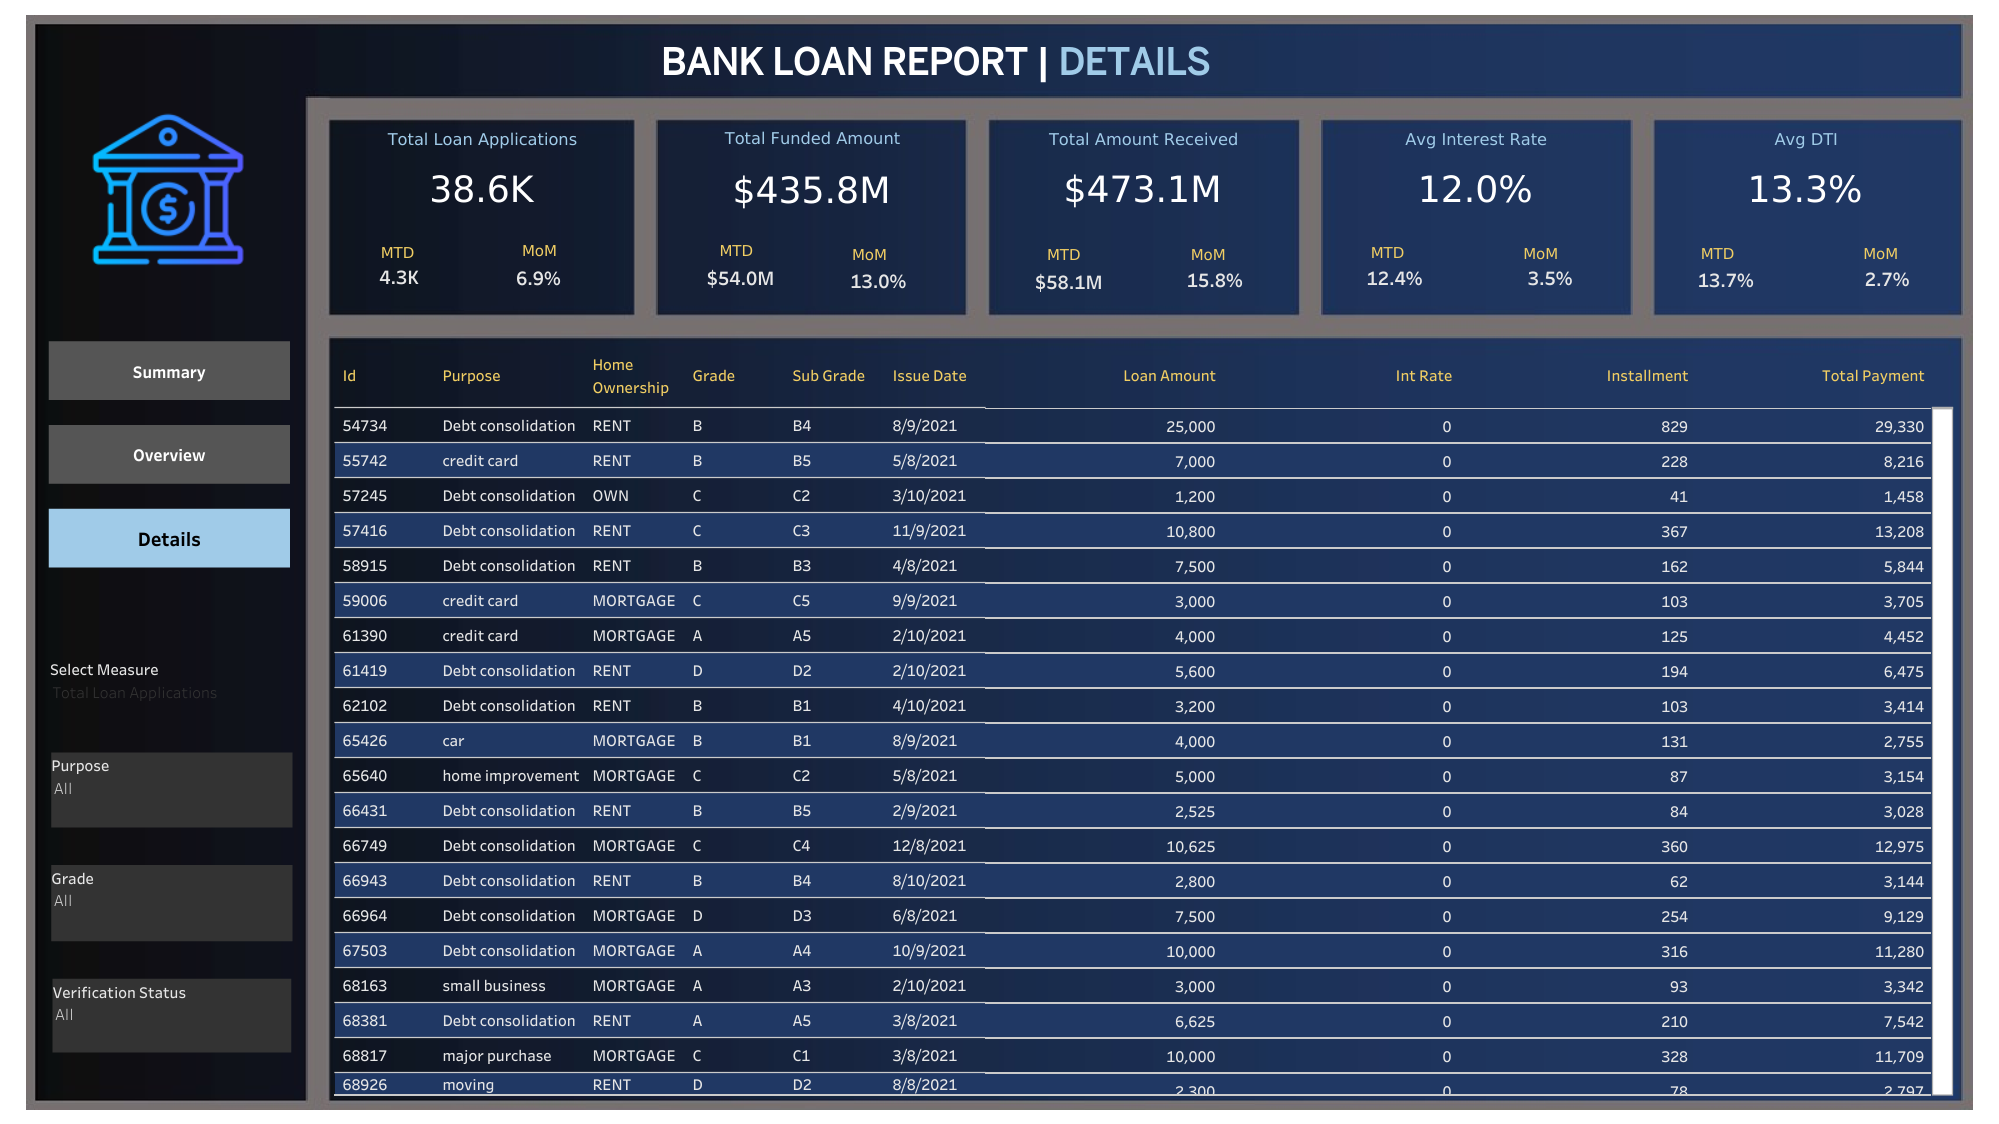

What the dashboard file says about the page in this screenshot:
{"tool":"tableau","page":{"name":"DETAILS","canvas":[1600,900],"ordinal":0},"visuals":[{"type":"image","param":"Image/Tableau Background 3.jpg","box":[8,8,1584,884]},{"type":"text","box":[526,24,660,51]},{"type":"image","param":"Image/bank_9331464.png","box":[66,79,137,145]},{"type":"worksheet","title":"Total Funded Amount","mark":"Automatic","box":[528,96,244,80]},{"type":"worksheet","title":"Total Loan Applications","mark":"Automatic","box":[266,97,240,78]},{"type":"worksheet","title":"Total Amount Received","mark":"Automatic","box":[793,97,244,79]},{"type":"worksheet","title":"Avg Interest Rate","mark":"Automatic","box":[1059,97,244,79]},{"type":"worksheet","title":"Avg DTI","mark":"Automatic","box":[1324,97,242,79]},{"type":"text","box":[415,189,40,22]},{"type":"text","box":[573,189,39,23]},{"type":"text","box":[302,190,40,22]},{"type":"text","box":[1094,190,39,23]},{"type":"text","box":[1216,191,40,22]},{"type":"text","box":[1358,191,39,23]},{"type":"text","box":[1488,191,40,22]},{"type":"text","box":[679,192,40,22]},{"type":"text","box":[835,192,39,23]},{"type":"text","box":[950,192,40,22]},{"type":"worksheet","title":"MTD Total Funded Amount","mark":"Automatic","box":[550,208,86,28]},{"type":"worksheet","title":"MTD Avg Interest Rate","mark":"Automatic","box":[1079,208,73,27]},{"type":"worksheet","title":"MoM Avg Interest Rate","mark":"Automatic","box":[1211,208,58,28]},{"type":"worksheet","title":"MoM Loan Applications","mark":"Automatic","box":[393,209,76,26]},{"type":"worksheet","title":"MTD Total Loan Applications","mark":"Automatic","box":[294,210,52,22]},{"type":"worksheet","title":"MTD Avg DTI","mark":"Automatic","box":[1347,210,67,26]},{"type":"worksheet","title":"MoM Avg DTI","mark":"Automatic","box":[1481,210,59,24]},{"type":"worksheet","title":"MoM Total Funded Amount","mark":"Automatic","box":[667,212,72,23]},{"type":"worksheet","title":"MTD Total Amount Received","mark":"Automatic","box":[816,212,79,25]},{"type":"worksheet","title":"MoM Total Amount Received","mark":"Automatic","box":[938,213,68,22]},{"type":"dashboard-object","box":[39,273,193,47]},{"type":"worksheet","title":"Details Tab","mark":"Automatic","rows":["id","purpose","home_ownership","grade","sub_grade","issue_date"],"box":[268,274,1295,603]},{"type":"dashboard-object","box":[39,340,193,47]},{"type":"dashboard-object","box":[39,407,193,47]},{"type":"parameter","param":"[Parameters].[Parameter 1]","box":[40,525,195,57]},{"type":"filter","title":"Avg DTI","param":"[federated.0aim52818chl1713h0jb8159vocc].[none:purpose:nk]","box":[41,602,193,60]},{"type":"filter","title":"Avg DTI","param":"[federated.0aim52818chl1713h0jb8159vocc].[none:grade:nk]","box":[41,692,193,61]},{"type":"filter","title":"Avg DTI","param":"[federated.0aim52818chl1713h0jb8159vocc].[none:verification_status:nk]","box":[42,783,191,59]}]}

Visuals, with their boxes in screenshot pixels (x1, y1, x2, y2), scaled from the page's 1600x900 canvas onto the 1999x1124 screenshot:
image: bbox(10, 10, 1989, 1114)
text: bbox(657, 30, 1482, 94)
image: bbox(82, 99, 254, 280)
"Total Funded Amount" worksheet: bbox(660, 120, 965, 220)
"Total Loan Applications" worksheet: bbox(332, 121, 632, 219)
"Total Amount Received" worksheet: bbox(991, 121, 1296, 220)
"Avg Interest Rate" worksheet: bbox(1323, 121, 1628, 220)
"Avg DTI" worksheet: bbox(1654, 121, 1957, 220)
text: bbox(518, 236, 568, 264)
text: bbox(716, 236, 765, 265)
text: bbox(377, 237, 427, 265)
text: bbox(1367, 237, 1416, 266)
text: bbox(1519, 239, 1569, 266)
text: bbox(1697, 239, 1745, 267)
text: bbox(1859, 239, 1909, 266)
text: bbox(848, 240, 898, 267)
text: bbox(1043, 240, 1092, 269)
text: bbox(1187, 240, 1237, 267)
"MTD Total Funded Amount" worksheet: bbox(687, 260, 795, 295)
"MTD Avg Interest Rate" worksheet: bbox(1348, 260, 1439, 293)
"MoM Avg Interest Rate" worksheet: bbox(1513, 260, 1585, 295)
"MoM Loan Applications" worksheet: bbox(491, 261, 586, 293)
"MTD Total Loan Applications" worksheet: bbox(367, 262, 432, 290)
"MTD Avg DTI" worksheet: bbox(1683, 262, 1767, 295)
"MoM Avg DTI" worksheet: bbox(1850, 262, 1924, 292)
"MoM Total Funded Amount" worksheet: bbox(833, 265, 923, 293)
"MTD Total Amount Received" worksheet: bbox(1019, 265, 1118, 296)
"MoM Total Amount Received" worksheet: bbox(1172, 266, 1257, 293)
dashboard-object: bbox(49, 341, 290, 400)
"Details Tab" worksheet: bbox(335, 342, 1953, 1095)
dashboard-object: bbox(49, 425, 290, 483)
dashboard-object: bbox(49, 508, 290, 567)
parameter: bbox(50, 656, 294, 727)
"Avg DTI" filter: bbox(51, 752, 292, 827)
"Avg DTI" filter: bbox(51, 864, 292, 940)
"Avg DTI" filter: bbox(52, 978, 291, 1052)
